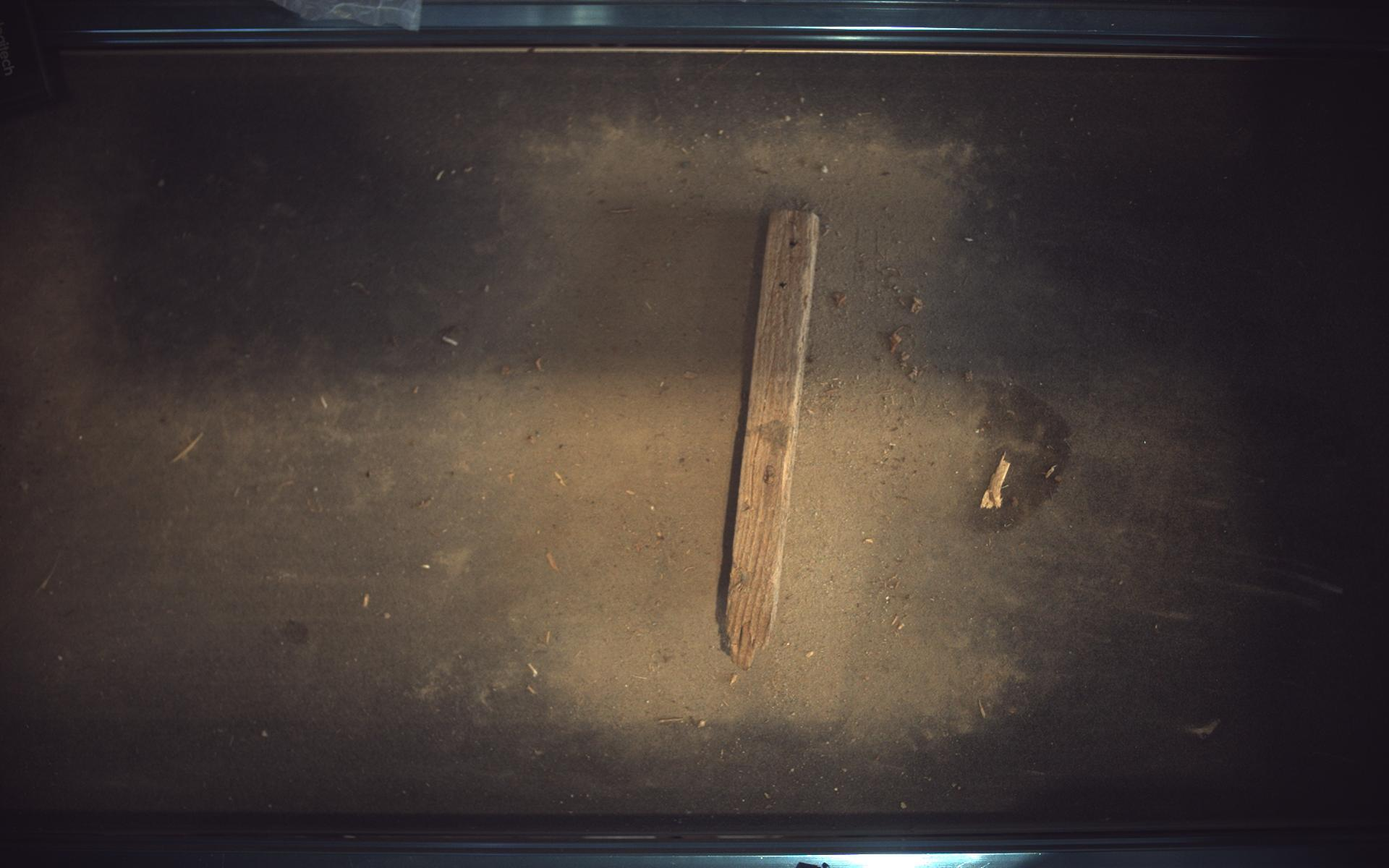wood: (723, 208, 821, 670)
